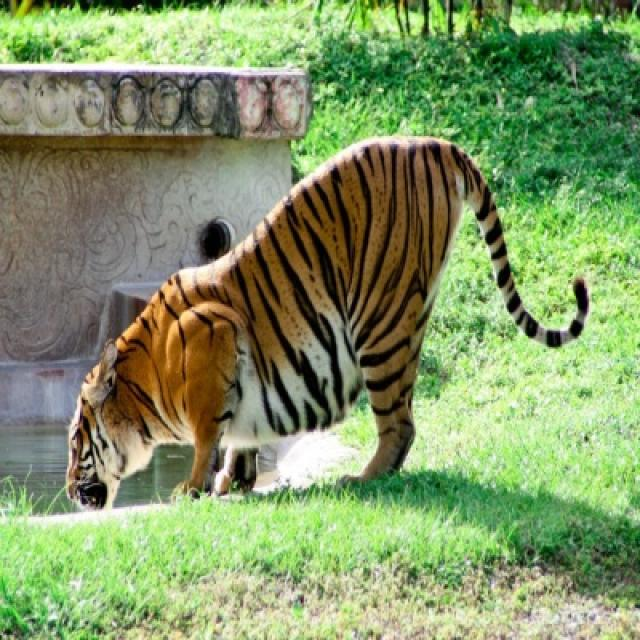Tiger: (64, 130, 590, 515)
